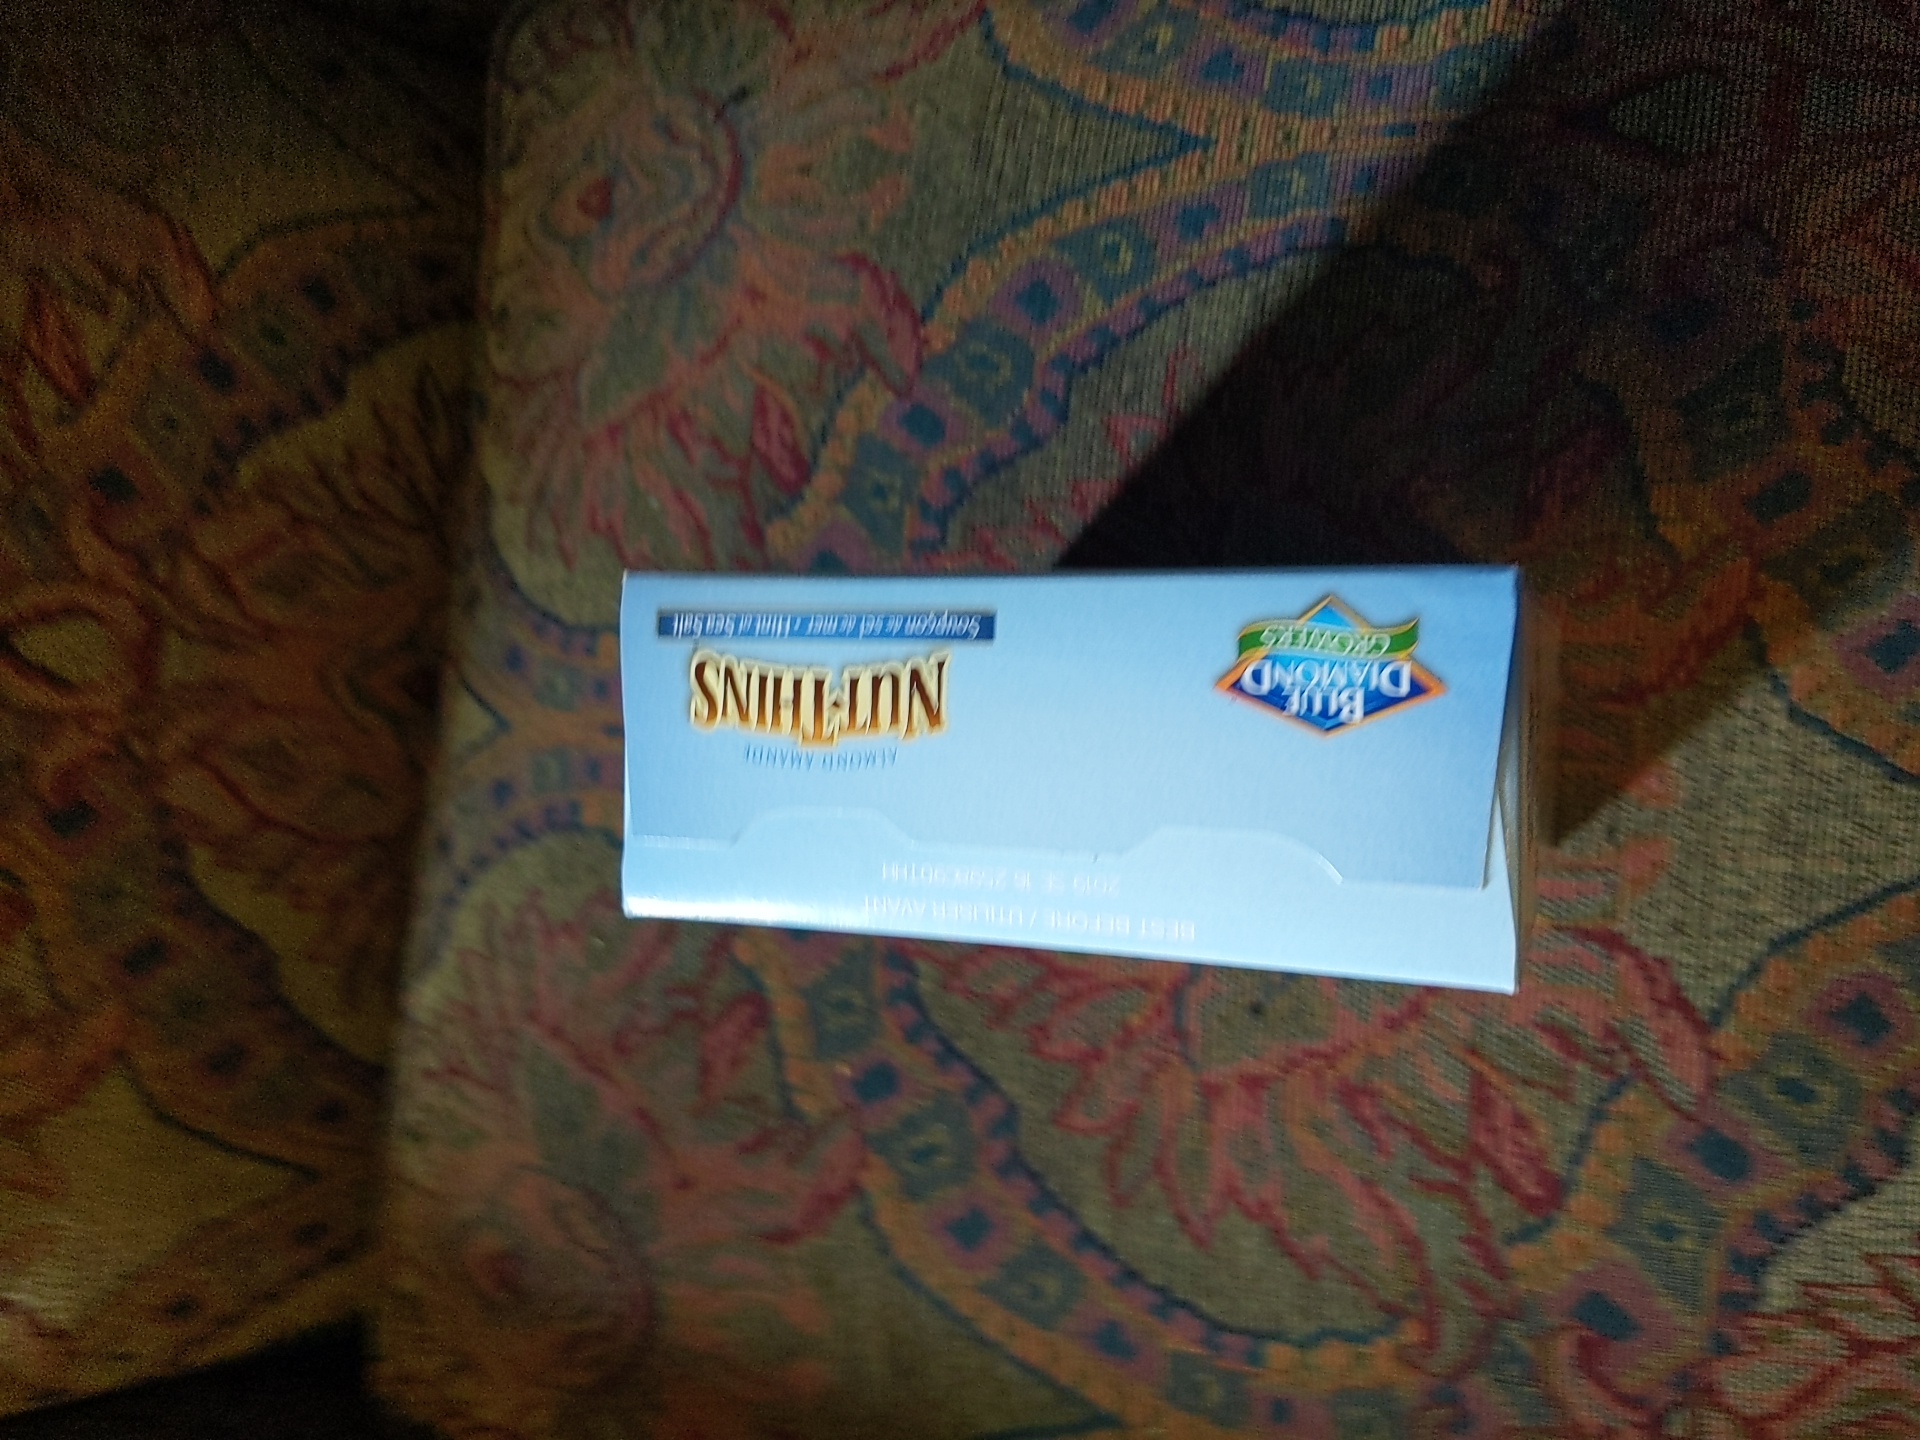blue_diamond_nut_thins_almond_seasalt: (617, 572, 1544, 989)
